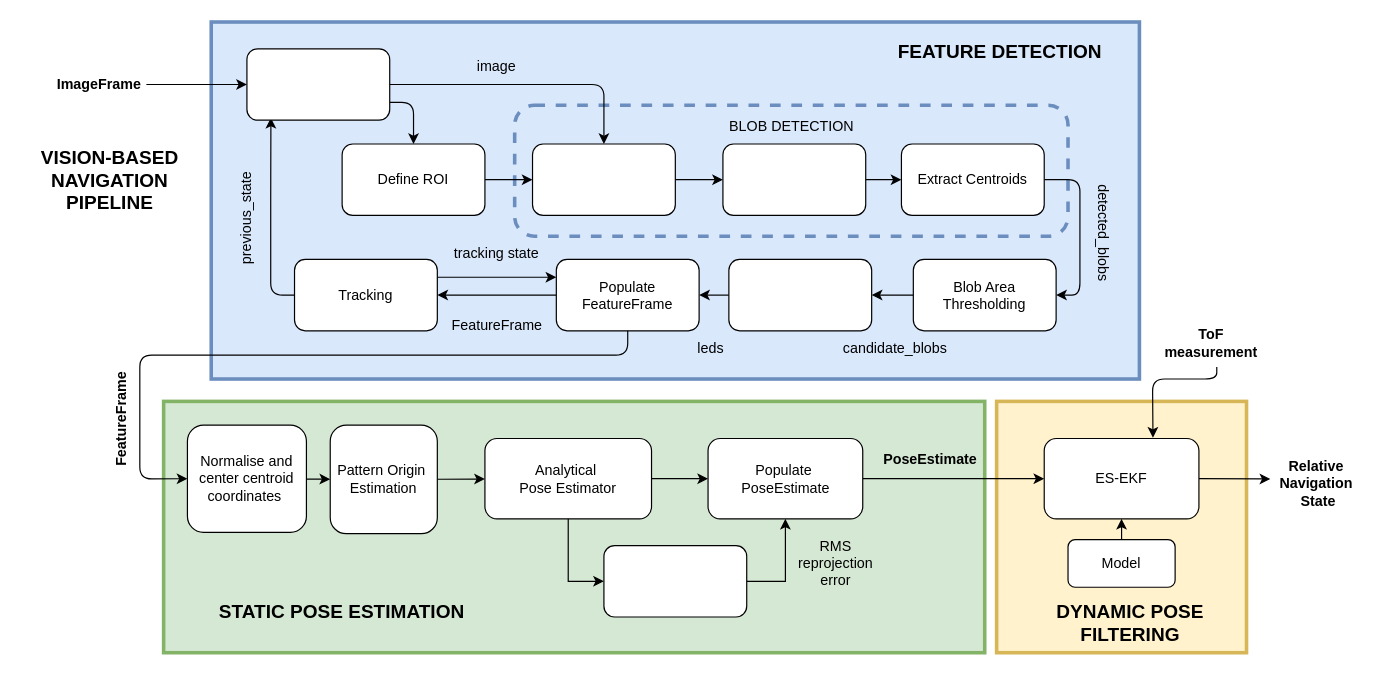
Image size: 1391x675. Some labels were removed from this diagram. Here are the shapes that lost their labels. From the top down, the centre of each, then its label:
At (x=318, y=84): "Inputs and Persistent State".
At (x=603, y=179): "Thresholding".
At (x=794, y=179): "Flood Fill Grouping".
At (x=800, y=294): "Pattern and LED Association".
At (x=675, y=580): "Evaluate Reprojection Error".
